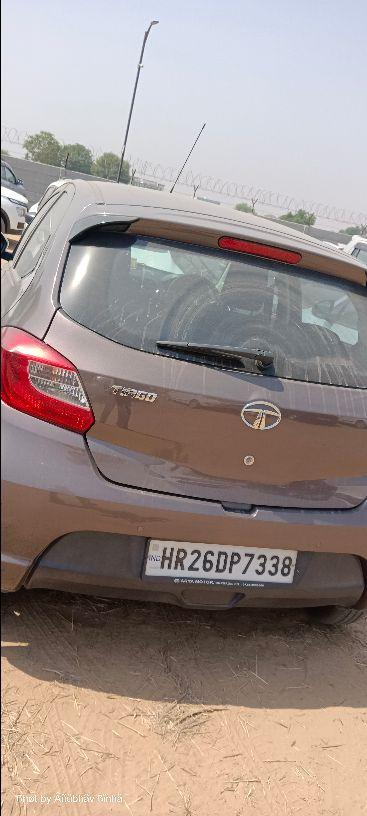license_plate: (141, 537, 298, 585)
